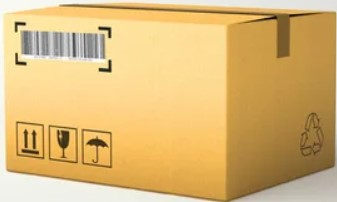stock: (5, 6, 337, 201)
